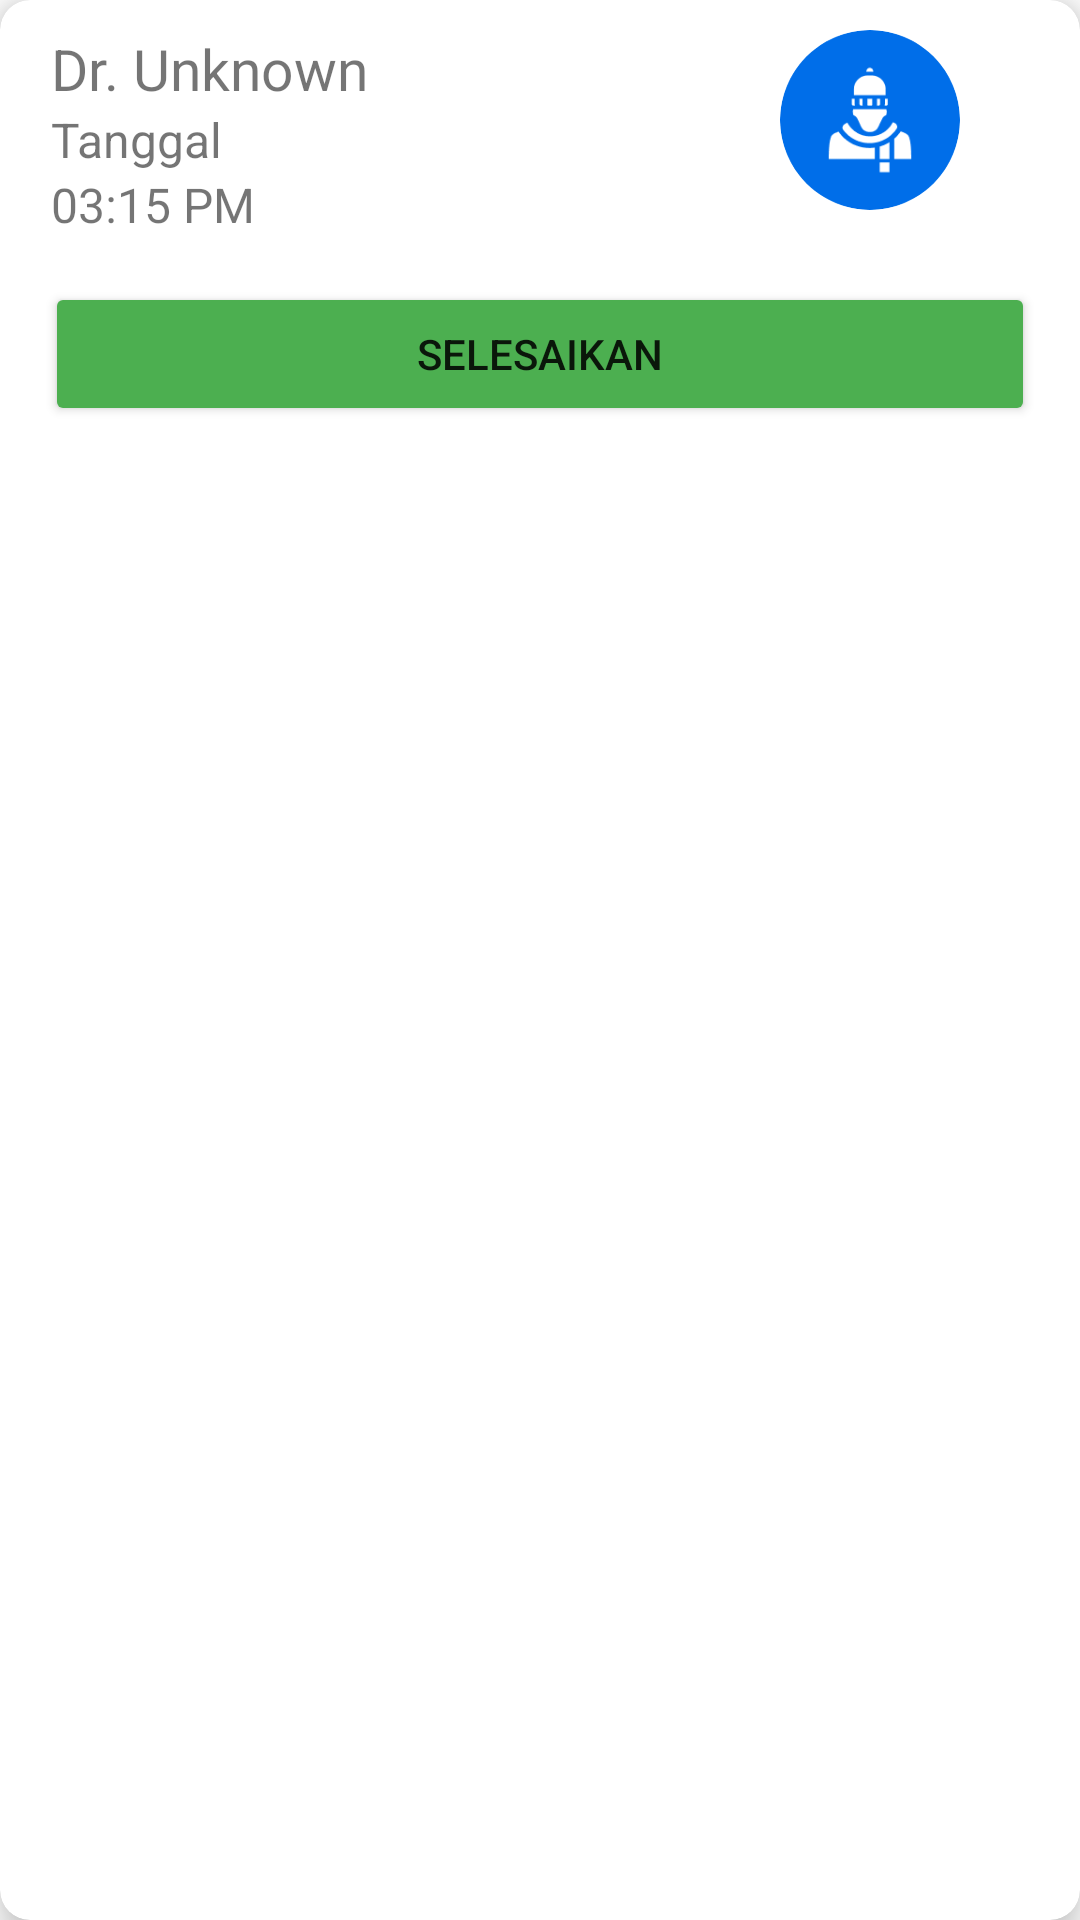

Icons on this 1080x1920 Android screen, each with the point to tap as (x=x, y=y):
avatarhome: (x=870, y=120)
